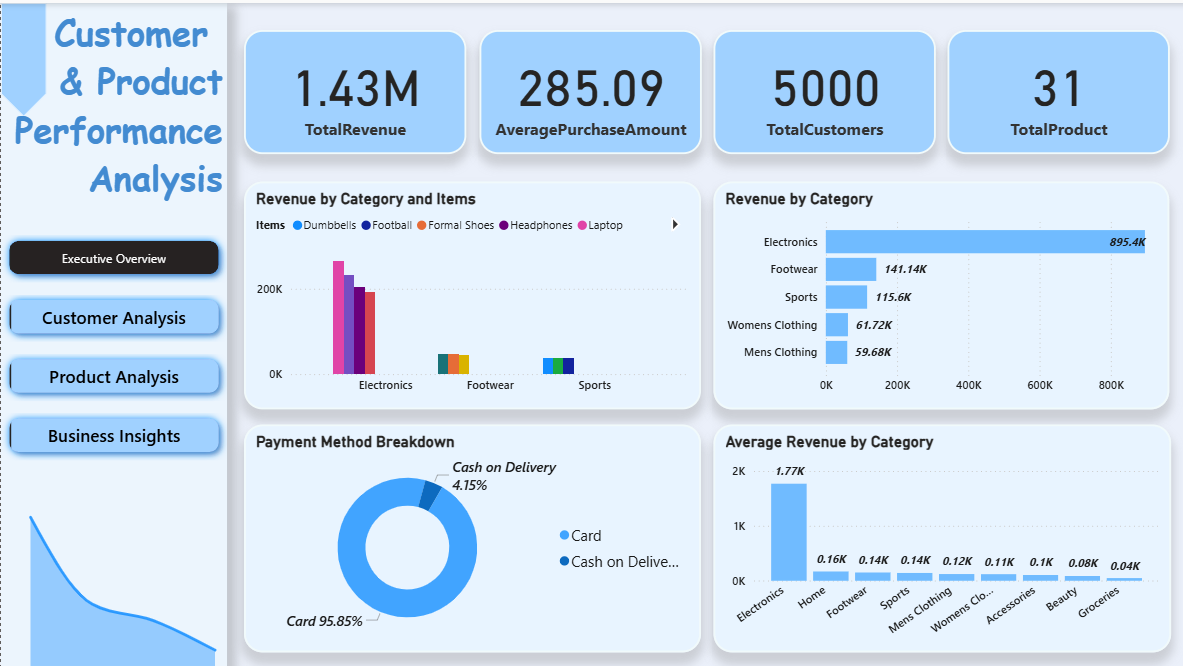

What the dashboard file says about the page in this screenshot:
{"tool":"powerbi","page":{"name":"Executive Overview","canvas":[1280,720],"ordinal":0},"visuals":[{"type":"textbox","box":[0,0,243.8,720],"z":0},{"type":"card","fields":{"Values":["FACT_Purchases.TotalRevenue"]},"box":[262.7,28.3,240,134.2],"z":1000},{"type":"shape","box":[0,0,49.1,122.8],"z":2000},{"type":"card","fields":{"Values":["FACT_Purchases.AveragePurchageAmount"]},"box":[515.9,28.3,240,134.2],"z":3000},{"type":"card","fields":{"Values":["FACT_Purchases.TotalCustomer"]},"box":[769.1,28.3,240,134.2],"z":4000},{"type":"barChart","title":"Revenue by Category","fields":{"Y":["Sum(FACT_Purchases.Amount)"],"Category":["DIM_Product.Category","DIM_Product.Items"]},"box":[769.1,192.7,492.2,246.1],"z":5000},{"type":"clusteredColumnChart","title":"Revenue by Category and Items","fields":{"Category":["DIM_Product.Category"],"Y":["Sum(FACT_Purchases.Amount)"],"Series":["DIM_Product.Items"]},"box":[262.7,192.8,493,245.7],"z":6000},{"type":"columnChart","title":"Average Revenue by Category","fields":{"Category":["DIM_Product.Category"],"Y":["Avg(FACT_Purchases.Amount)"]},"box":[769.1,455,493.9,246.1],"z":7000},{"type":"textbox","box":[0,0,244.5,226.7],"z":8000},{"type":"donutChart","title":"Payment Method Breakdown","fields":{"Category":["DIM_PaymentMethod.PaymentMethod"],"Y":["Sum(FACT_Purchases.Amount)"]},"box":[262.7,455.4,493,245.7],"z":9000},{"type":"card","fields":{"Values":["DIM_Product.TotalProduct"]},"box":[1022.4,28.3,240,134.2],"z":10000},{"type":"areaChart","title":"Revenue by Season","fields":{"Category":["DIM_Season.Season"],"Y":["Sum(FACT_Purchases.Amount)"]},"box":[0,523,262.3,197.5],"z":11000},{"type":"pageNavigator","box":[0,247.7,244.5,249.4],"z":12000}]}

Visuals, with their boxes in screenshot pixels (x1, y1, x2, y2), scaled from the page's 1280x720 canvas onto the 1183x666 screenshot:
textbox: 0,0,225,665
card - FACT_Purchases.TotalRevenue: 243,26,465,150
shape: 0,0,45,114
card - FACT_Purchases.AveragePurchageAmount: 477,26,699,150
card - FACT_Purchases.TotalCustomer: 711,26,933,150
"Revenue by Category" barChart: 711,178,1166,406
"Revenue by Category and Items" clusteredColumnChart: 243,178,698,406
"Average Revenue by Category" columnChart: 711,421,1167,649
textbox: 0,0,226,210
"Payment Method Breakdown" donutChart: 243,421,698,649
card - DIM_Product.TotalProduct: 945,26,1167,150
"Revenue by Season" areaChart: 0,484,242,665
pageNavigator: 0,229,226,460
